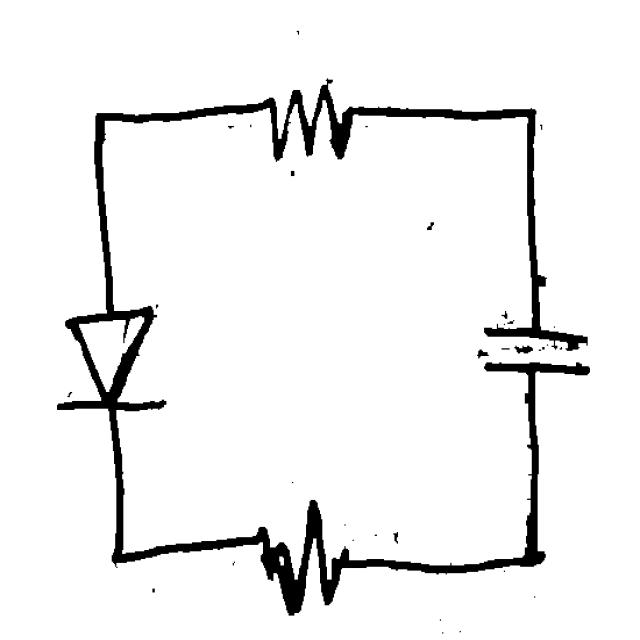capacitor: (461, 303, 608, 391)
diode: (45, 288, 188, 436)
resistor: (236, 485, 384, 622), (239, 64, 371, 170)
